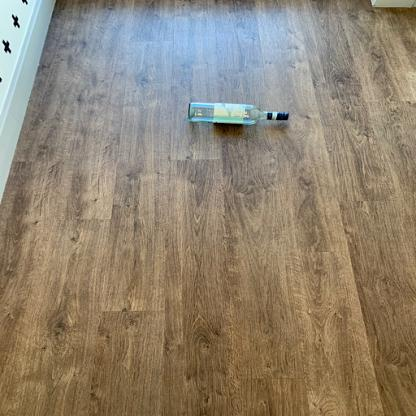trash: (183, 101, 289, 126)
